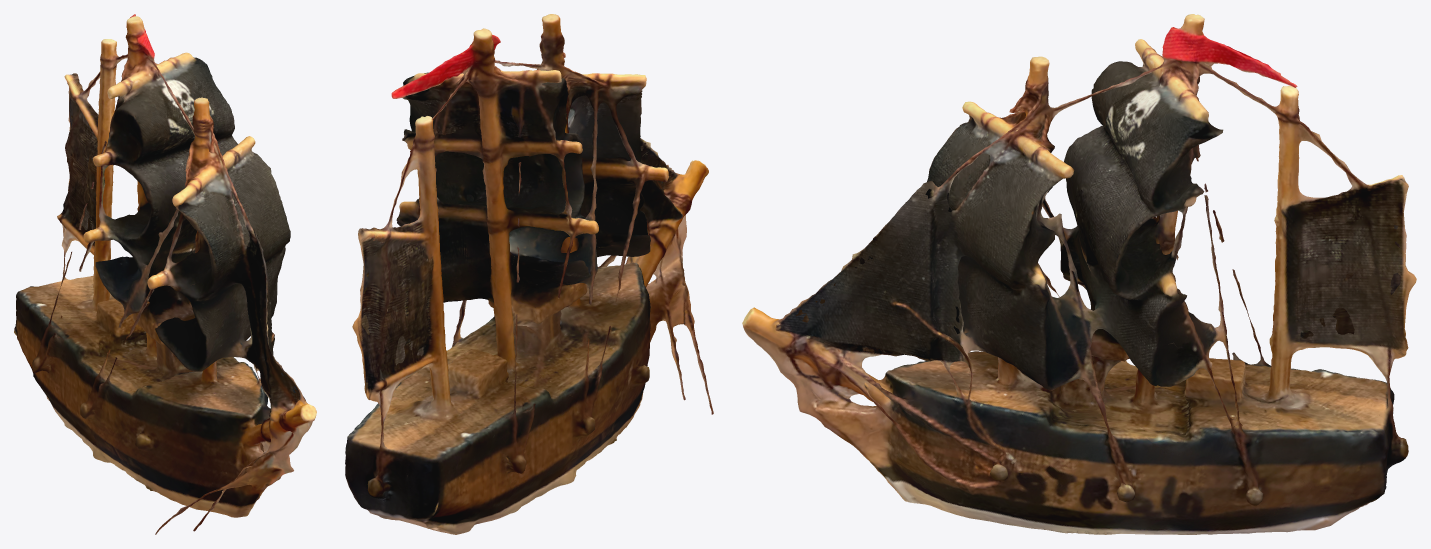
The model's file is mini_pirate_ship.glb.
3 views of the same model, side by side, from view 1: azimuth 30°, elevation 25°; view 2: azimuth 150°, elevation 25°; view 3: azimuth 270°, elevation 25° (orthographic). The views are drawn at different scales.
Parts seen in each view (by area): view 1: Object_2; view 2: Object_2; view 3: Object_2.
Part boxes in pixels (x1,y1,x2,y2): Object_2: (14,14,316,534); Object_2: (345,14,713,534); Object_2: (742,14,1416,534).
Size of the model in its own units: 0.0394 by 0.0846 by 0.1049.
1 material, 1 textured.
